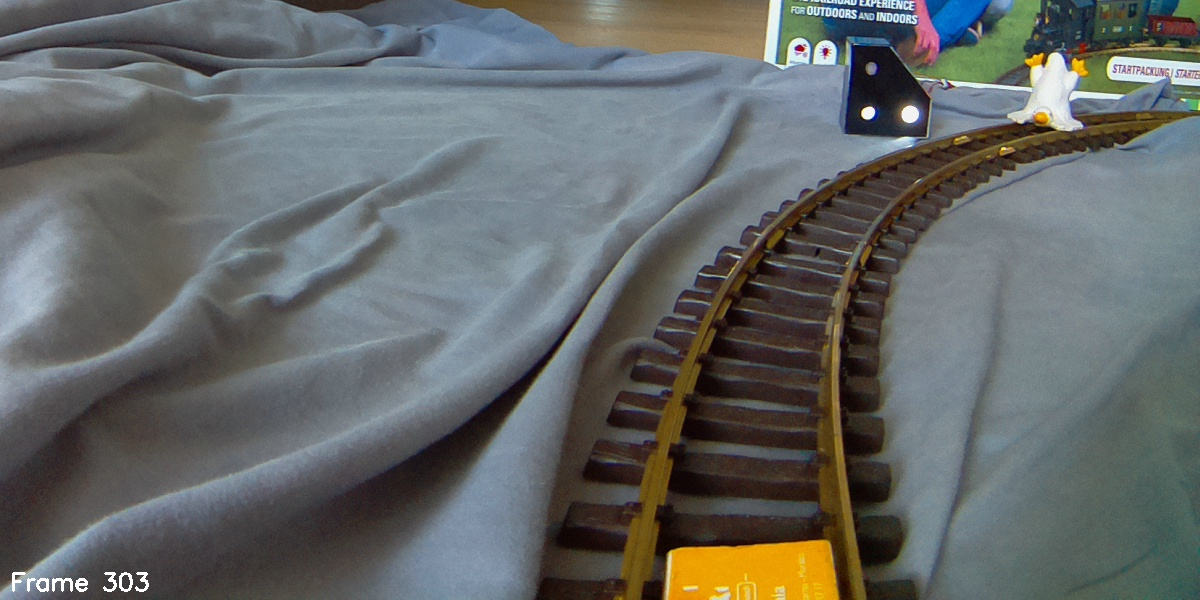Ente: (1006, 51, 1087, 134)
Halt: (842, 34, 931, 142)
